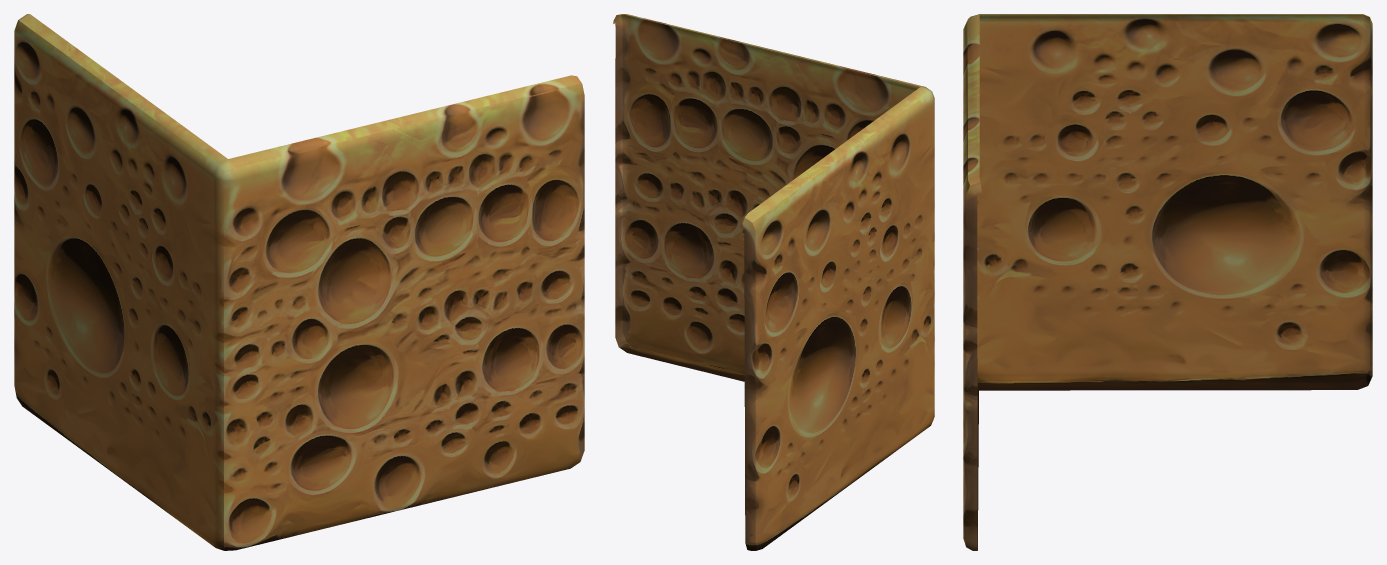
The model's file is Moon_v2.fbx.
3 views of the same model, side by side, from view 1: azimuth 30°, elevation 25°; view 2: azimuth 150°, elevation 25°; view 3: azimuth 270°, elevation 25° (orthographic). The views are drawn at different scales.
Parts seen in each view (by area): view 1: Moon_v2; view 2: Moon_v2; view 3: Moon_v2.
Boxes of the visible parts, x1,y1,x2,y2 form: Moon_v2: (14, 14, 584, 550); Moon_v2: (613, 14, 934, 550); Moon_v2: (963, 14, 1372, 550).
Bounding box in the file's own units: 100 × 101 × 100.
